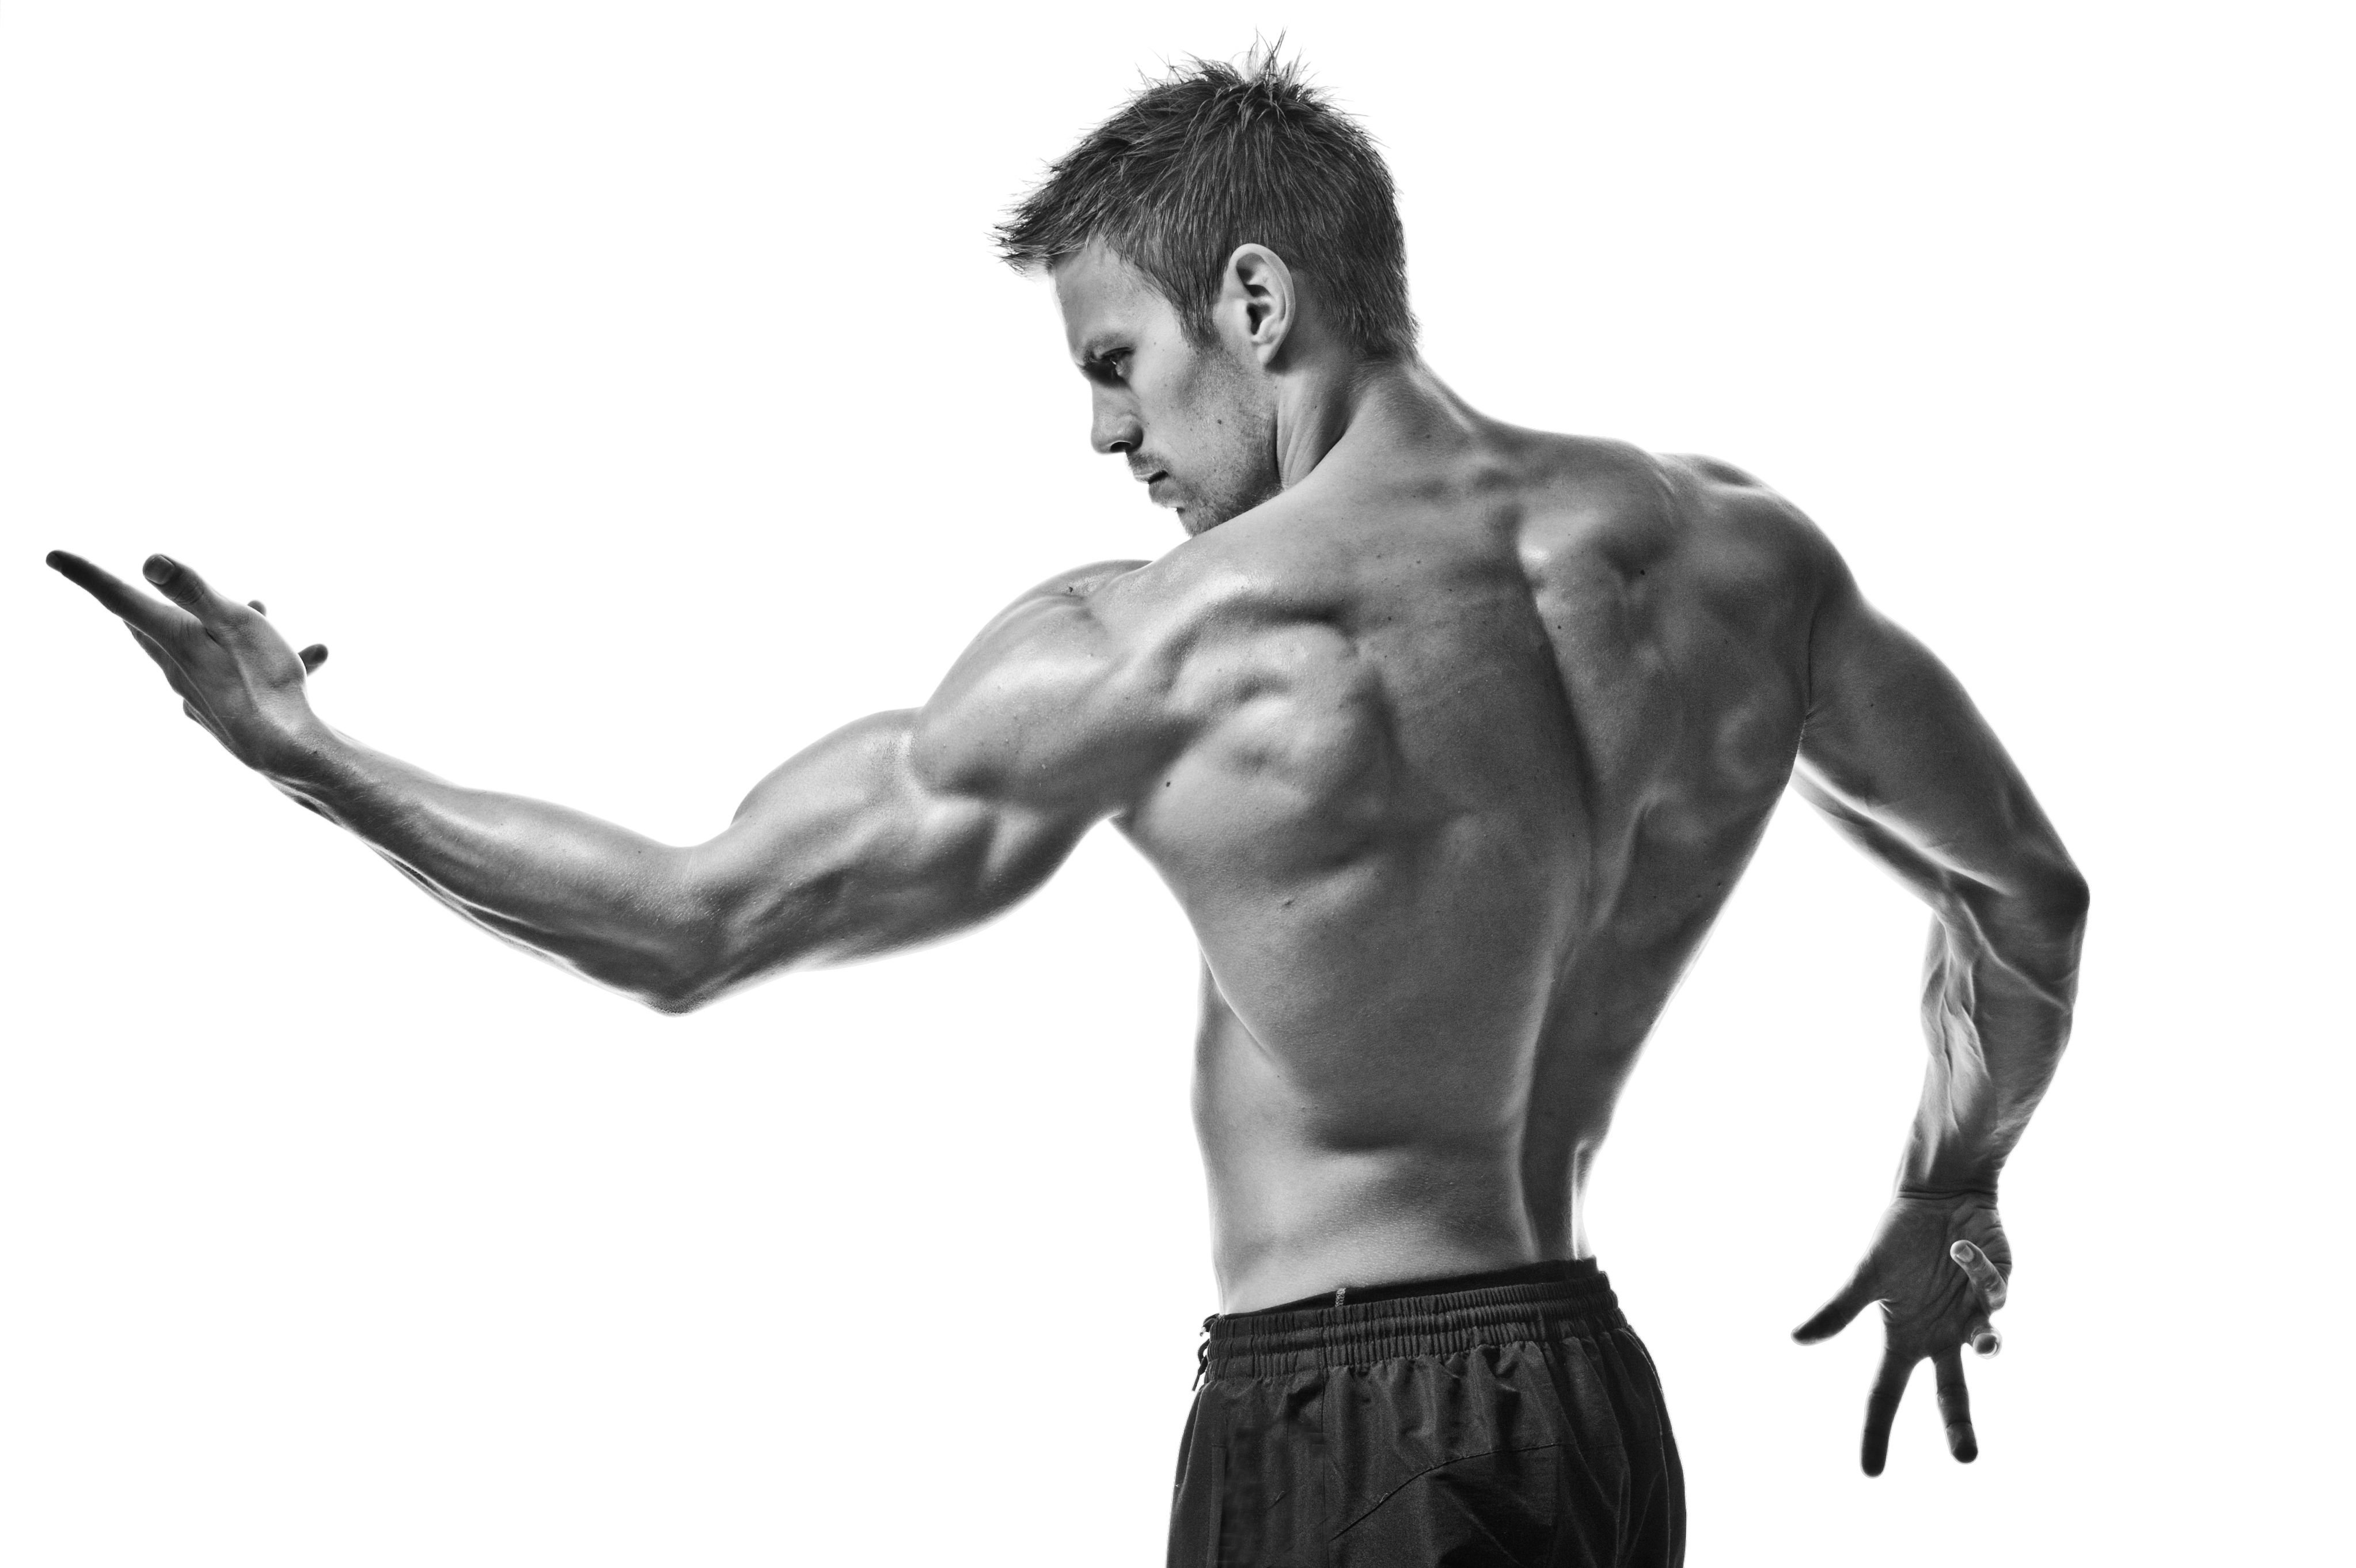noMask: (969, 46, 1372, 520)
